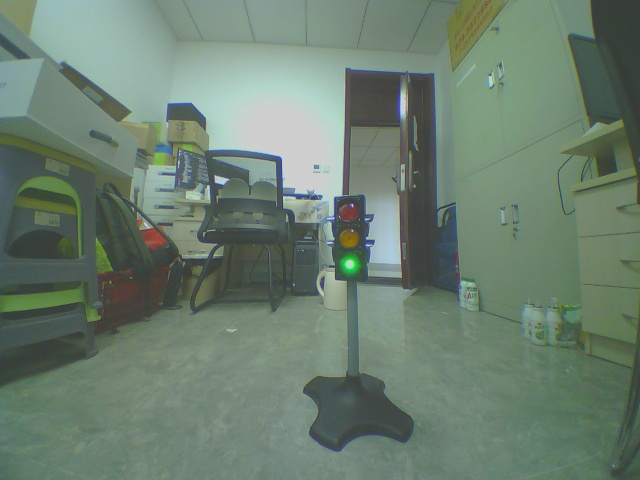Green: (323, 188, 390, 285)
